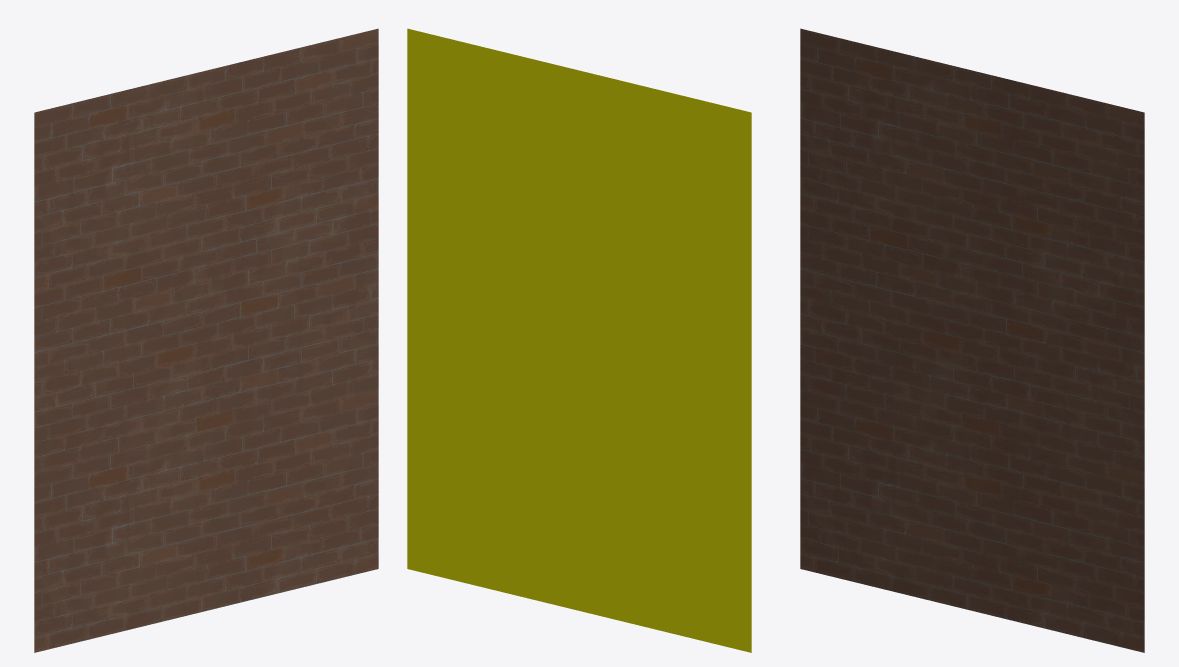
The model's file is brick-plain-3-nowear.glb.
3 renders of one model, left to right at view 1: azimuth 30°, elevation 25°; view 2: azimuth 150°, elevation 25°; view 3: azimuth 330°, elevation 25°, orthographic.
Parts seen in each view (by area): view 1: Brick_Plain_3_noWear; view 2: Brick_Plain_3_noWear; view 3: Brick_Plain_3_noWear.
Part boxes in pixels (bbox=[...]): Brick_Plain_3_noWear: bbox=[34, 28, 378, 652]; Brick_Plain_3_noWear: bbox=[407, 28, 751, 652]; Brick_Plain_3_noWear: bbox=[800, 28, 1144, 652].
Bounding box in the file's own units: 2 × 3 × 0.2.
Materials: 2 (1 with a texture image).
